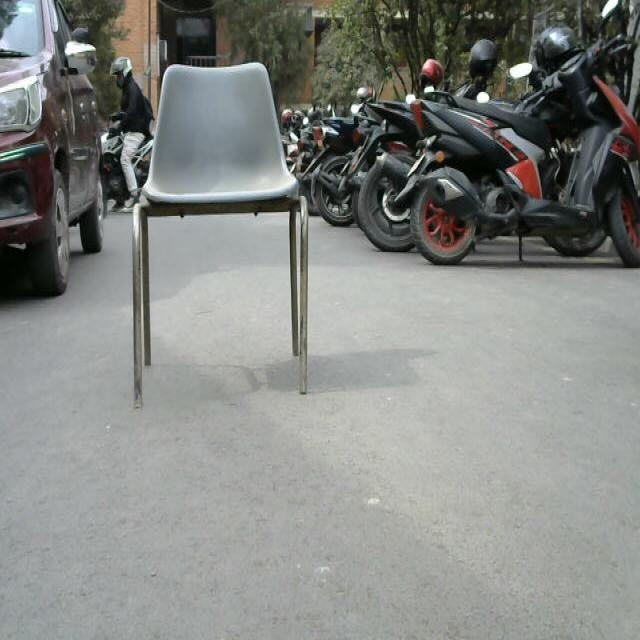Bike: (300, 43, 640, 286)
Car: (0, 0, 102, 332)
Road: (0, 404, 640, 640)
small-obstacles: (129, 50, 317, 421)
